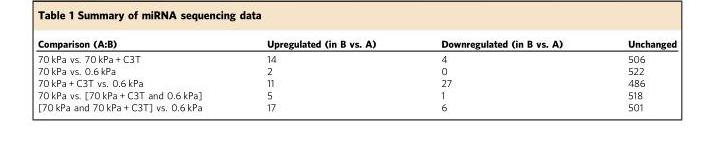table: (36, 37, 676, 112)
table column: (36, 37, 233, 112), (407, 37, 594, 112), (233, 37, 407, 112), (594, 37, 676, 112)
table column header: (36, 37, 676, 50)
table row: (36, 50, 676, 64), (36, 37, 676, 50), (36, 64, 676, 76), (36, 76, 676, 88), (36, 88, 676, 100), (36, 100, 676, 112)
